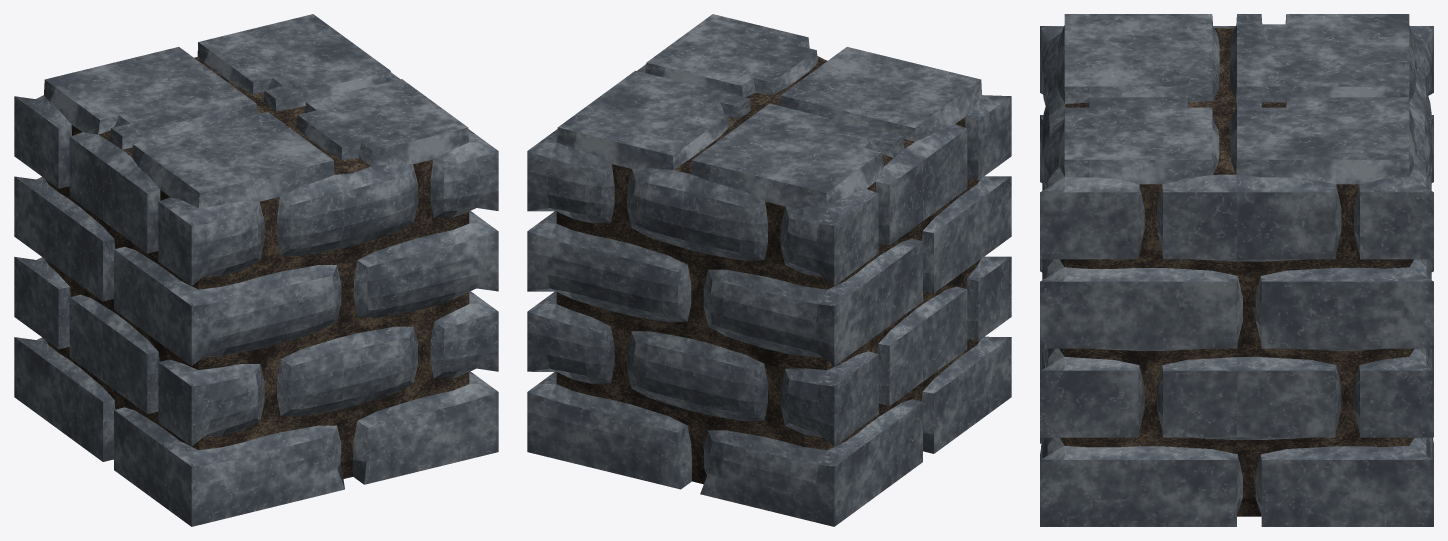
The model's file is block.glb.
The picture shows the model from 3 angles, left to right: view 1: azimuth 30°, elevation 25°; view 2: azimuth 150°, elevation 25°; view 3: azimuth 270°, elevation 25°; orthographic projection. The views are drawn at different scales.
Visible parts, largest first — view 1: crypt_block; view 2: crypt_block; view 3: crypt_block.
Part boxes in pixels (x1,y1,x2,y2): crypt_block: (14, 14, 498, 526); crypt_block: (527, 14, 1011, 526); crypt_block: (1040, 14, 1433, 526).
Size of the model in its own units: 1 by 1 by 1.
Materials: 1 (1 with a texture image).
